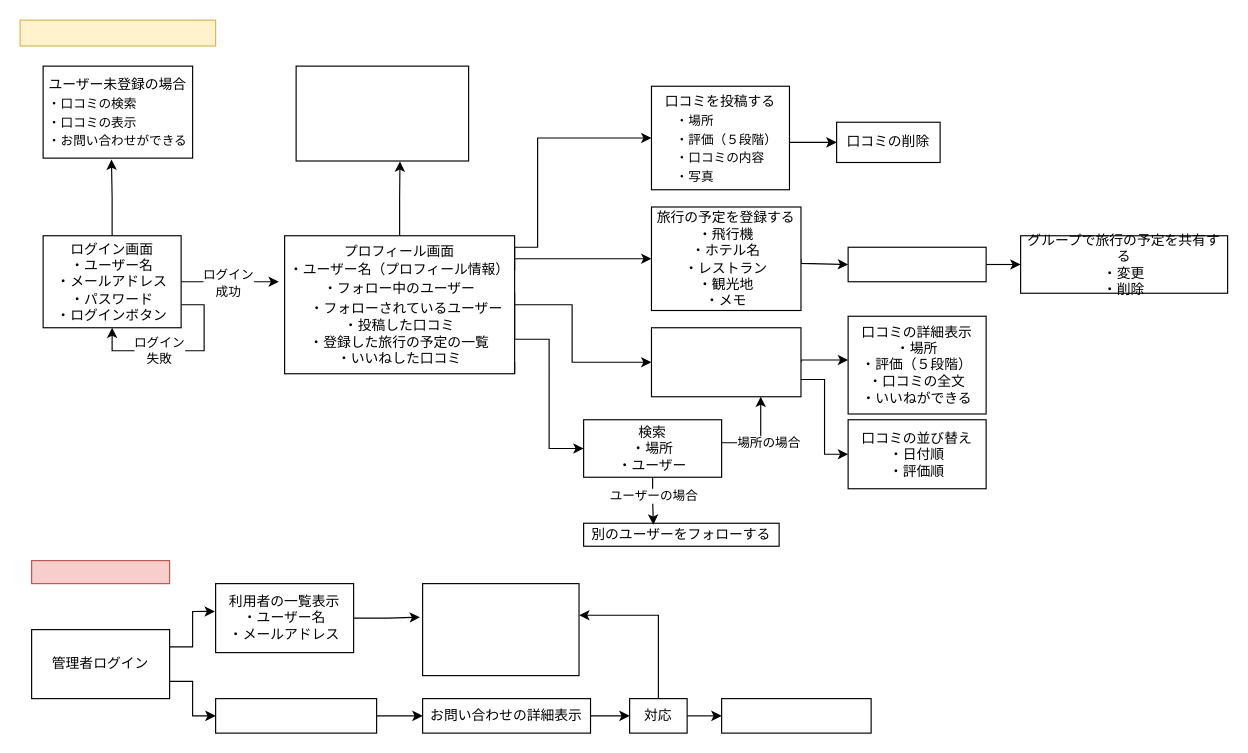
Image size: 1248x753. Some labels were removed from this diagram. Here are the shapes that lost their labels. From the top down, the centre of each, then its label:
At point 117,32: "一般ユーザーができること".
At point 382,113: "お問い合わせ ・ユーザー登録に関して ・予定に関して ・口コミに関して ・退会方法".
At point 916,264: "グループを作成する".
At point 725,362: "口コミの一覧表示 ・場所 ・評価（５段階） ・口コミの初めの部分".
At point 100,571: "管理者ができること".
At point 500,629: "編集・削除 ・口コミの 一覧表示・詳細表示の削除 ・ 旅行の予定の一覧表示・詳細表示の削除".
At point 295,715: "お問い合わせの一覧表示".
At point 795,715: "ユーザーの退会の取消".
